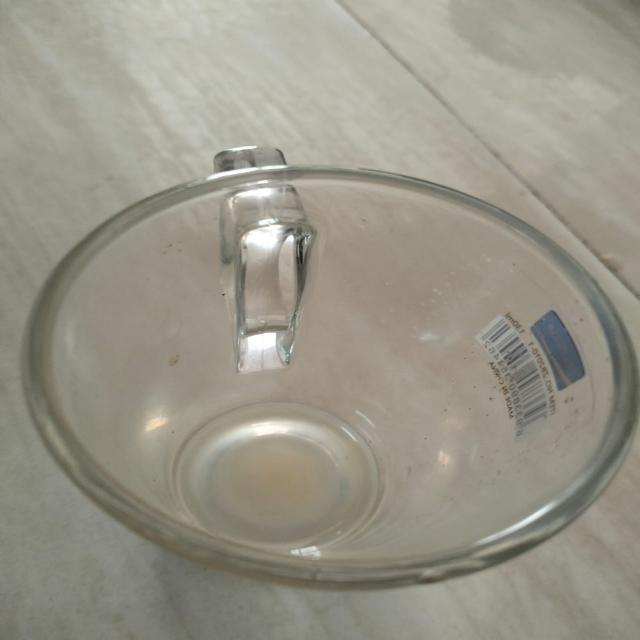glass-VX4N: (5, 144, 640, 589)
